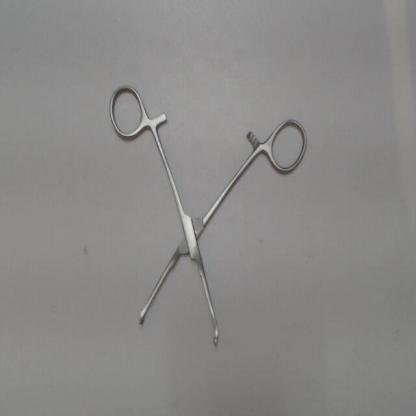Allis Tissue Forceps: (101, 73, 316, 358)
